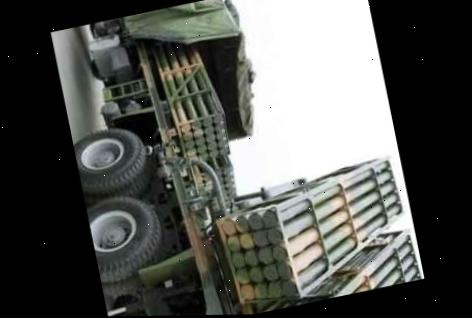rszo: (49, 0, 416, 317)
